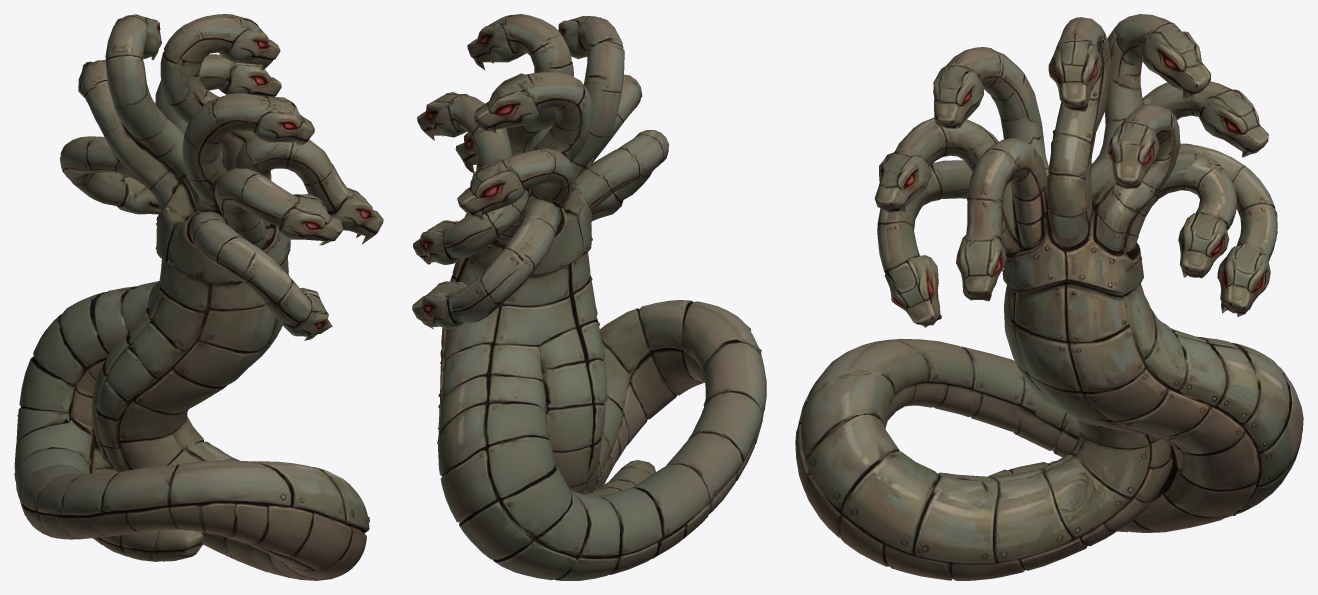
File: mecha_hydra.glb
3 renders of one model, left to right at view 1: azimuth 30°, elevation 25°; view 2: azimuth 150°, elevation 25°; view 3: azimuth 270°, elevation 25°, orthographic. The views are drawn at different scales.
Visible parts, largest first — view 1: tripo_node_603179f2-8cbd-438a-ada8-f440c6862aee; view 2: tripo_node_603179f2-8cbd-438a-ada8-f440c6862aee; view 3: tripo_node_603179f2-8cbd-438a-ada8-f440c6862aee.
Boxes of the visible parts, x1,y1,x2,y2 form: tripo_node_603179f2-8cbd-438a-ada8-f440c6862aee: [14, 14, 383, 580]; tripo_node_603179f2-8cbd-438a-ada8-f440c6862aee: [412, 14, 766, 580]; tripo_node_603179f2-8cbd-438a-ada8-f440c6862aee: [795, 14, 1303, 580].
Bounding box in the file's own units: 0.6182 × 1 × 0.8437.
Materials: 1 (1 with a texture image).
